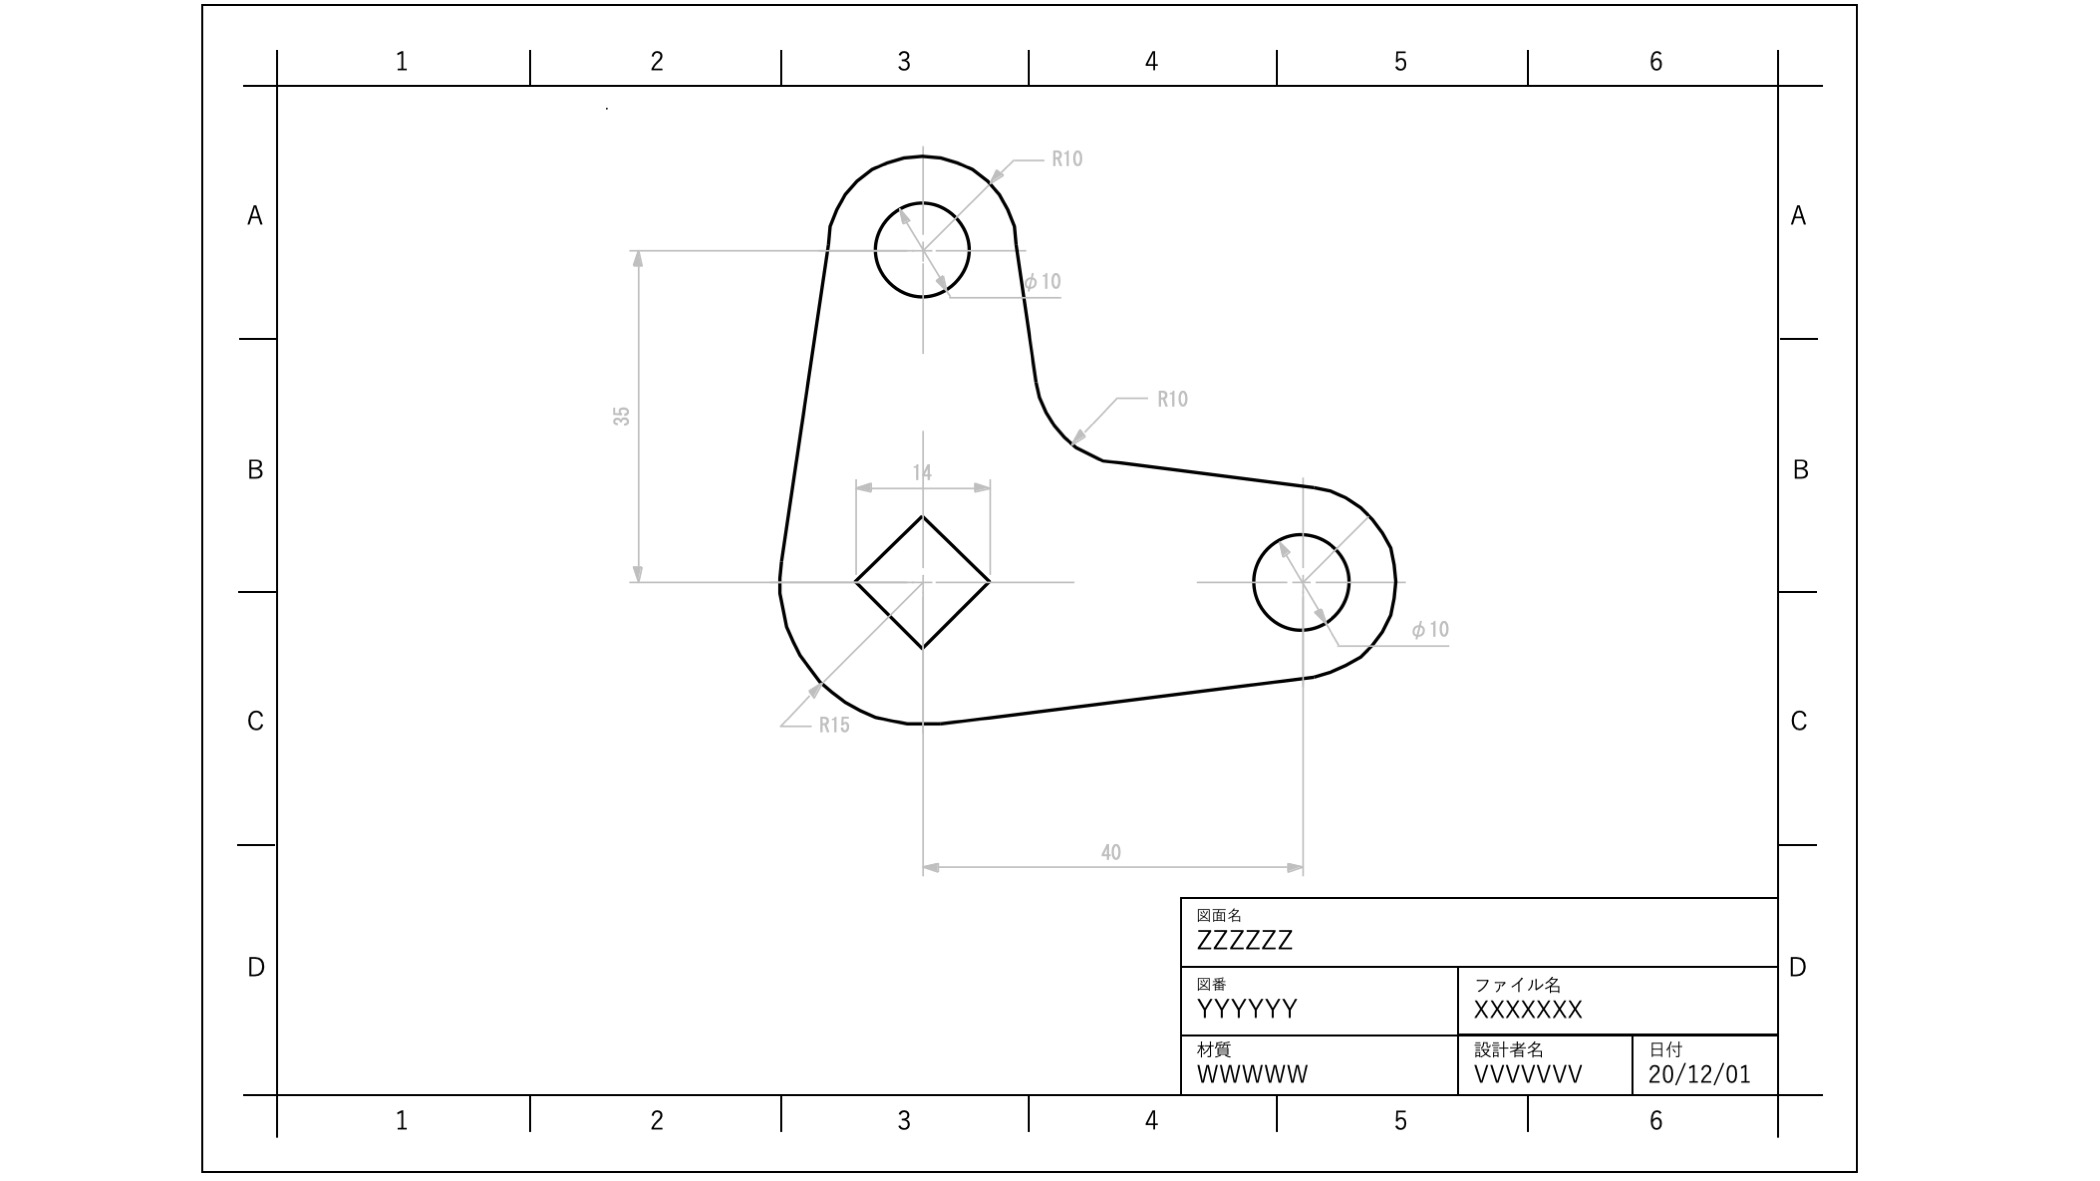circle: (868, 187, 981, 314), (1242, 523, 1359, 642)
rectangle: (847, 495, 1000, 669)
